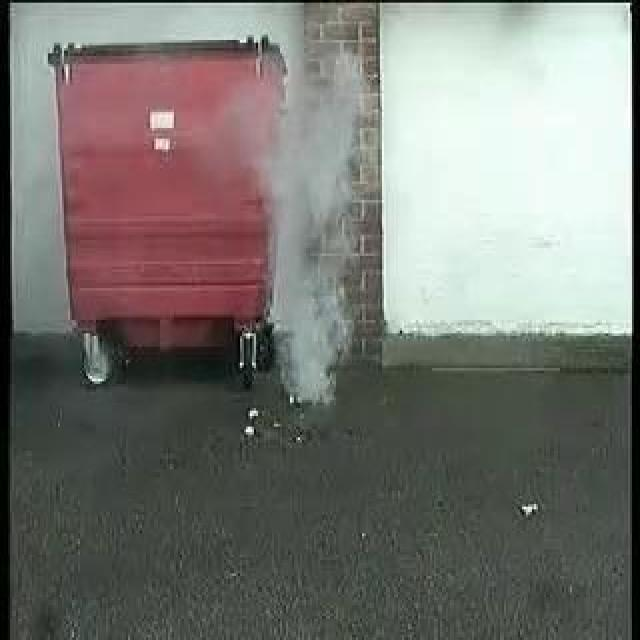Smoke: (253, 46, 365, 406)
